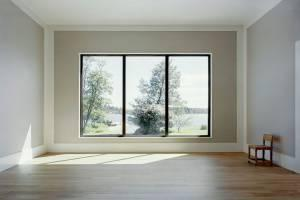window: (78, 52, 213, 137)
